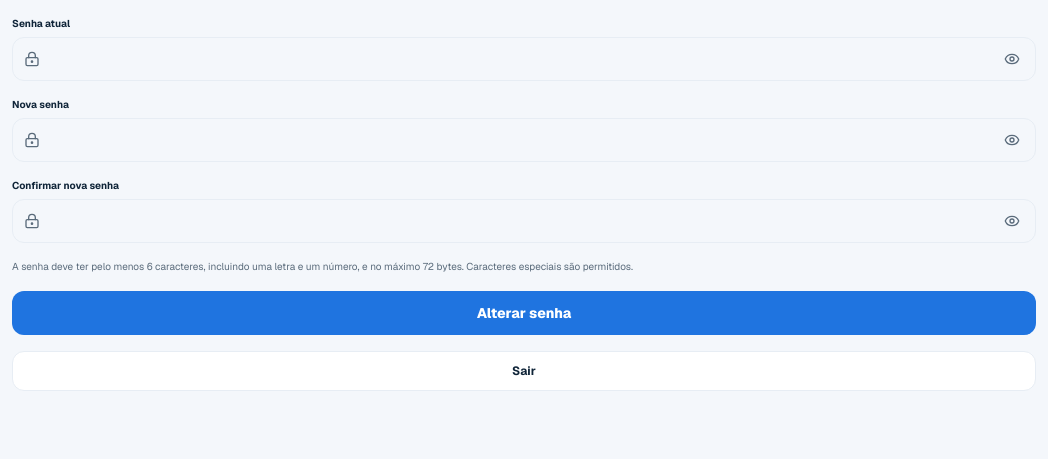
Test case: ChangePasswordForm › should_reject_mismatched_password_confirmation_before_request
Type "SenhaInicial!2026" into the password field labelled "Senha atual". click: (524, 59)
box: [12,37,1036,81]
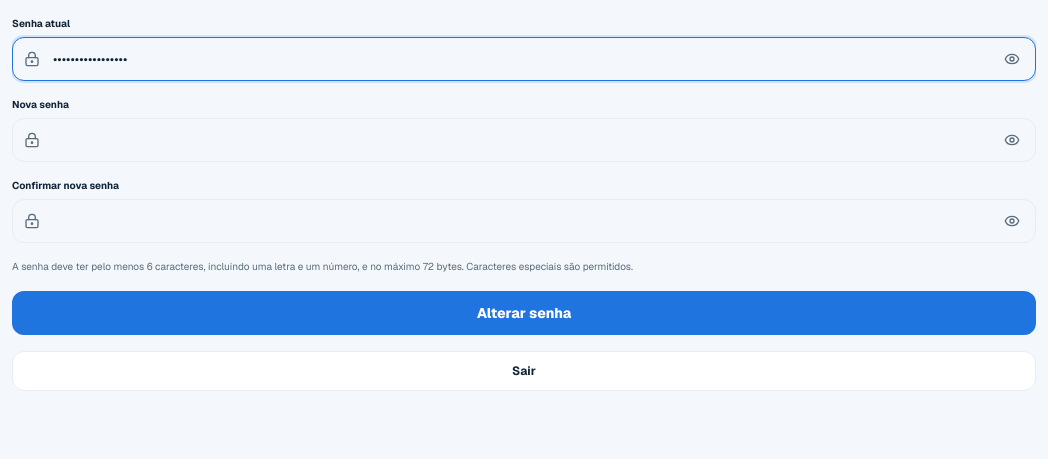
Type "Lucas123" into the password field labelled "Nova senha". click: (524, 140)
box: [12,118,1036,162]
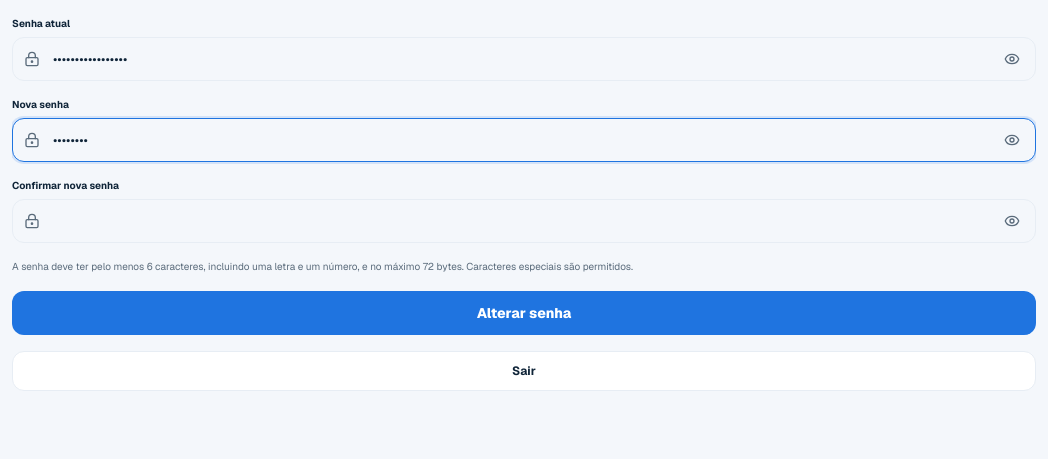
Type "Atendente1" into the password field labelled "Confirmar nova senha". click: (524, 221)
box: [12,199,1036,243]
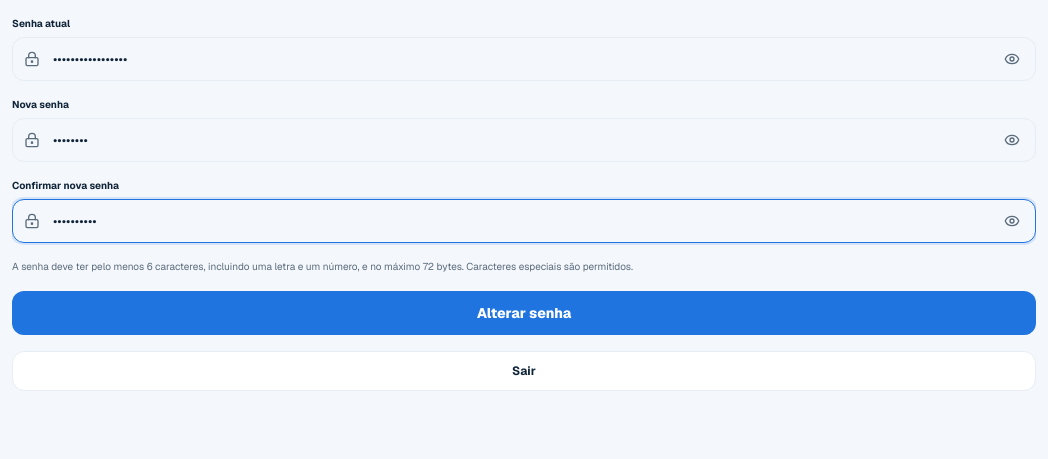
Click the button "Alterar senha". click: click(524, 313)
box: [12,291,1036,335]
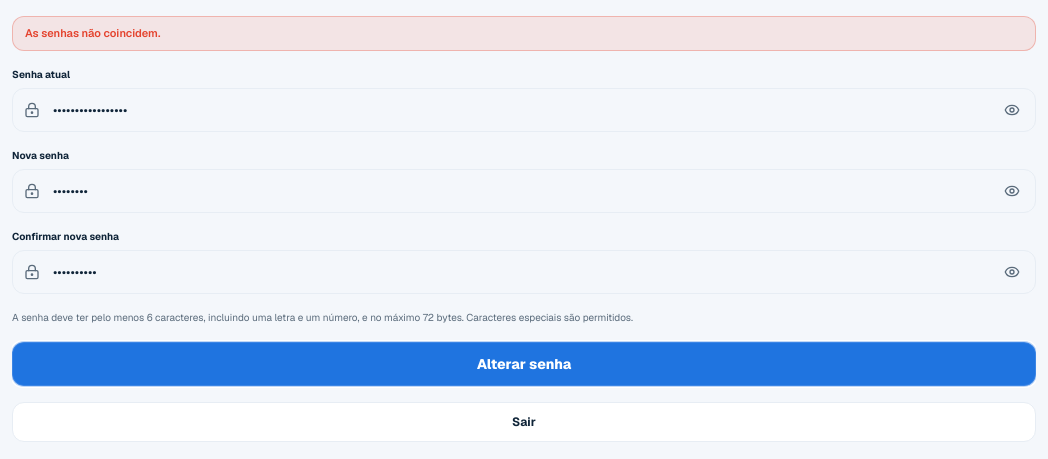
Check: the message reads "As senhas não coincidem.", box [25,26,160,40]
